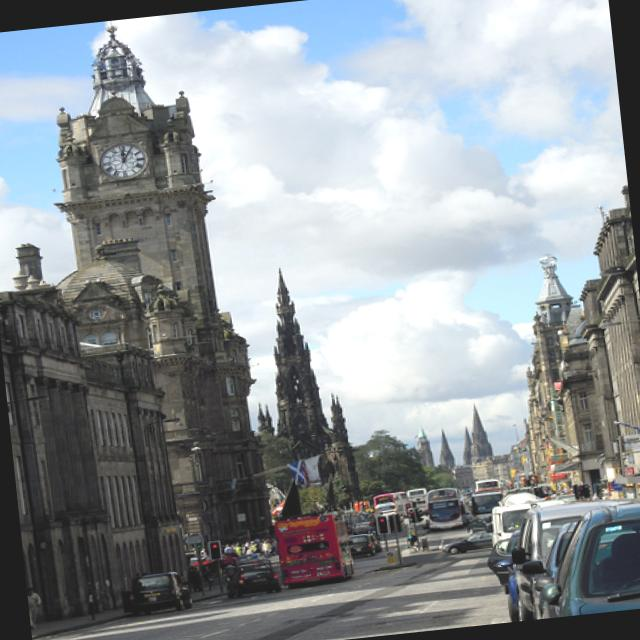Vehicle: (488, 491, 640, 623), (532, 498, 640, 618), (514, 518, 594, 620), (273, 509, 359, 587), (489, 498, 551, 558), (128, 570, 194, 616), (224, 556, 284, 600), (436, 529, 494, 555), (468, 488, 508, 524), (426, 498, 468, 532), (400, 486, 430, 530), (346, 532, 381, 559), (372, 490, 408, 510), (473, 478, 504, 492)
